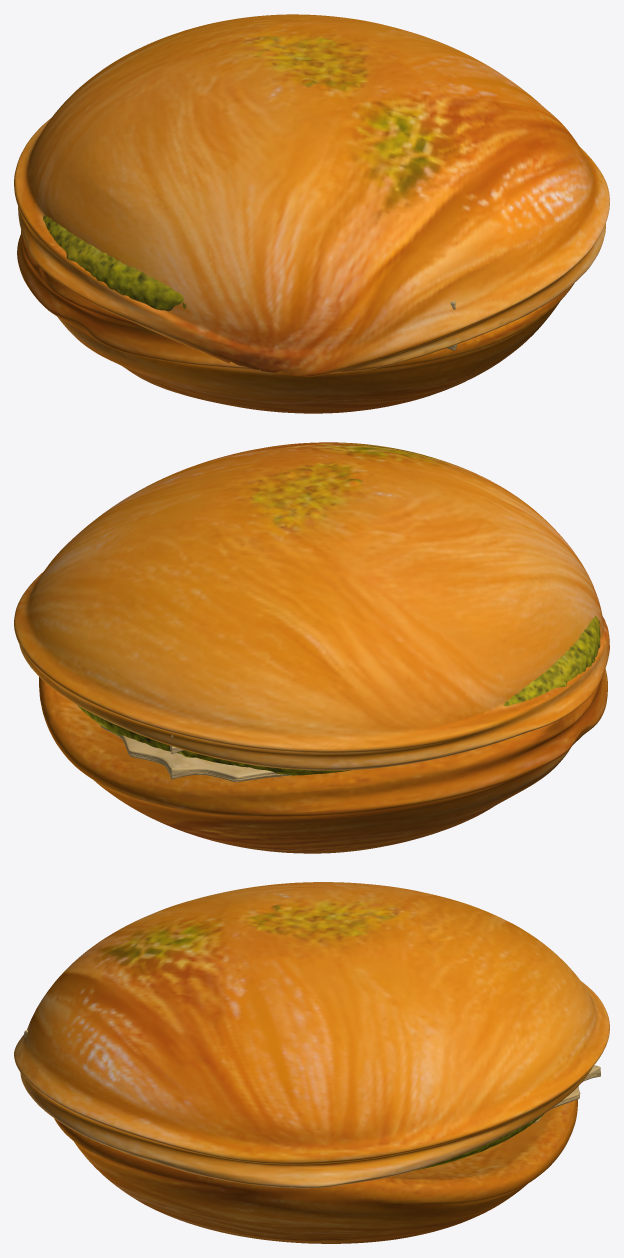
The model's file is baklavaHero.min.glb.
The picture shows the model from 3 angles, top to bottom: view 1: azimuth 30°, elevation 25°; view 2: azimuth 150°, elevation 25°; view 3: azimuth 270°, elevation 25°; orthographic projection. The views are drawn at different scales.
Parts seen in each view (by area): view 1: TopShell, BaseShell, Pistachio; view 2: TopShell, BaseShell, Pistachio, LowerFilo1; view 3: TopShell, BaseShell, Pistachio.
Boxes of the visible parts, x1,y1,x2,y2 form: TopShell: [14, 14, 609, 376]; BaseShell: [17, 230, 574, 413]; Pistachio: [43, 215, 186, 311]; TopShell: [14, 442, 609, 770]; BaseShell: [39, 668, 607, 853]; Pistachio: [77, 616, 600, 775]; LowerFilo1: [121, 735, 274, 777]; TopShell: [14, 882, 609, 1188]; BaseShell: [54, 1099, 577, 1243]; Pistachio: [412, 1113, 544, 1171].
Size of the model in its own units: 0.5191 by 0.2948 by 0.5465.
Materials: 1 (1 with a texture image).
